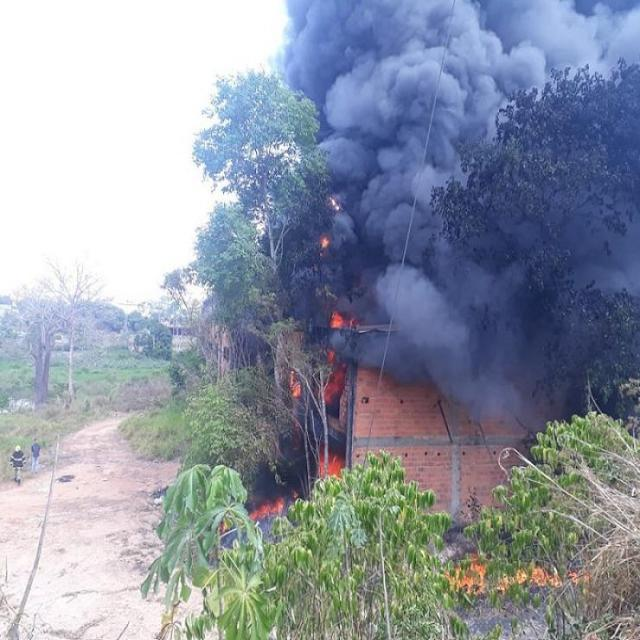Fire: (452, 561, 488, 590), (249, 496, 286, 524), (320, 362, 344, 402), (319, 444, 344, 474), (332, 308, 349, 330)
